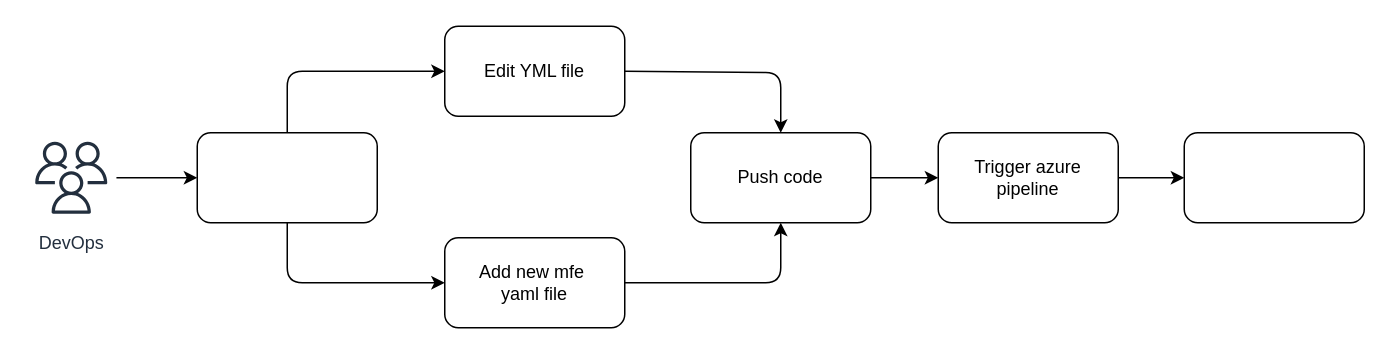
Image size: 1391x354. Some labels were removed from this diagram. Here are the shapes that lost their labels. From the top down, the box of each, then its label:
(196, 131, 377, 223): Edit code
(1183, 131, 1364, 223): Deploy to target
